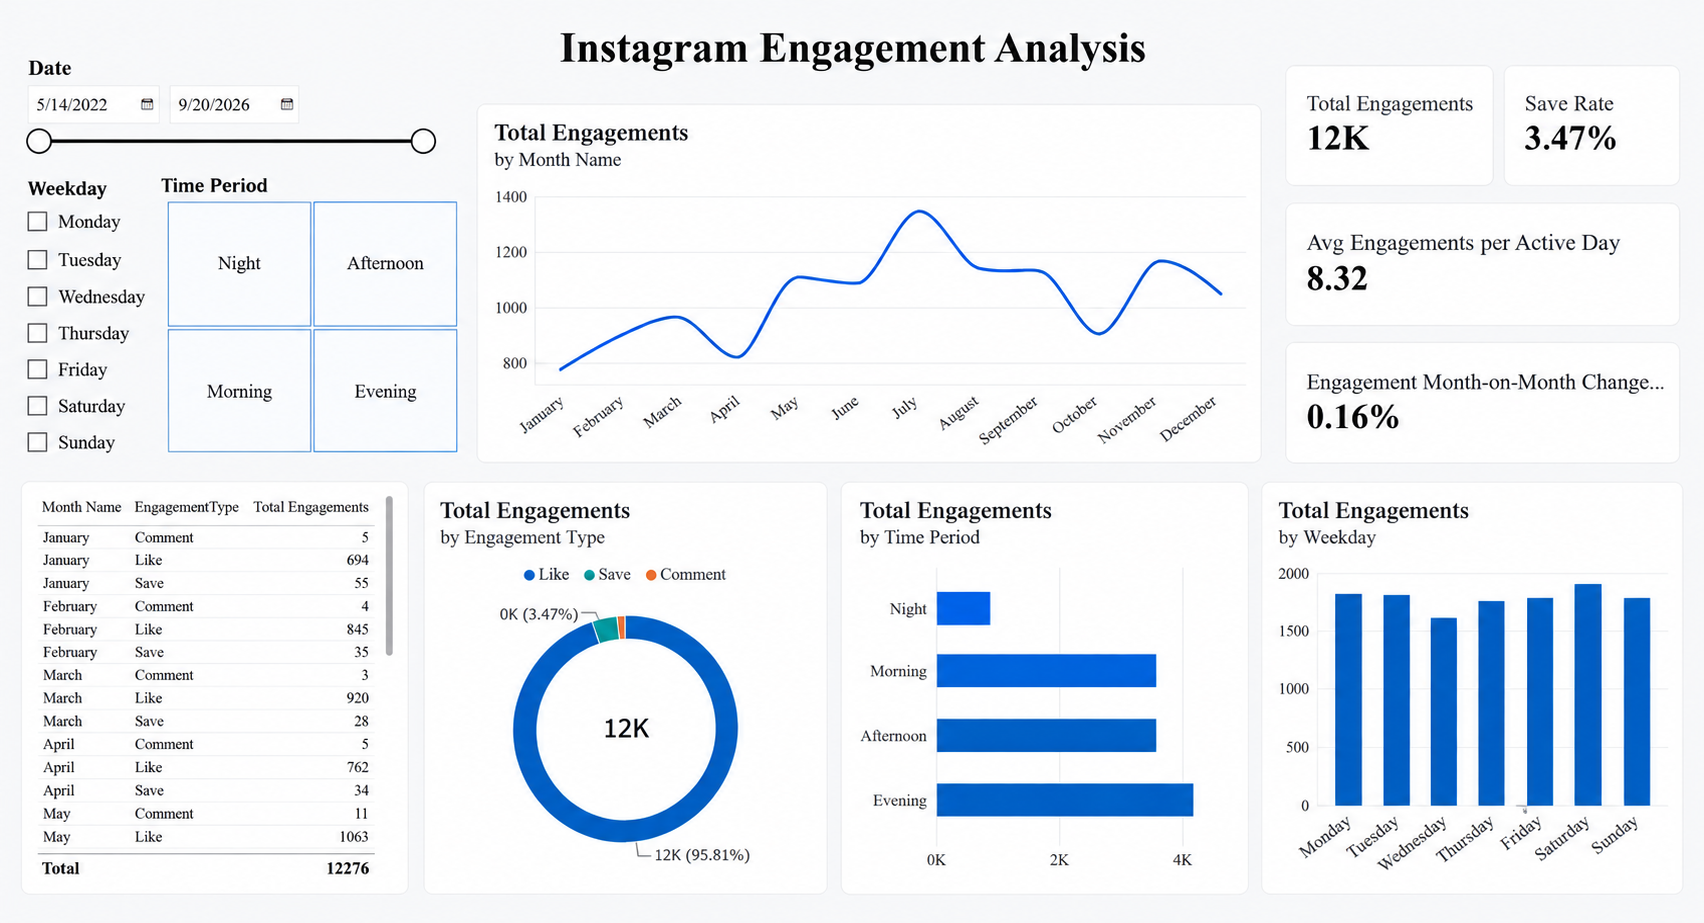

The page's visual inventory and layout, read from the dashboard file:
{"tool":"powerbi","page":{"name":"Engagement Analysis","canvas":[1920,1080],"ordinal":0},"visuals":[{"type":"textbox","box":[662.3,65.6,595.1,57.4],"z":0},{"type":"slicer","fields":{"Values":["DimDate.Date"]},"box":[16.7,77.8,466.7,164.8],"z":1000},{"type":"slicer","fields":{"Values":["DimDate.Weekday"]},"box":[16.7,203.7,213,337],"z":2000},{"type":"slicer","fields":{"Values":["DimTime.Time Period"]},"box":[161.1,200,366.7,311.1],"z":3000},{"type":"cardVisual","fields":{"Data":["FactEngagement.Total Engagements"]},"box":[1452.5,96.7,219.7,126.2],"z":4000},{"type":"cardVisual","fields":{"Data":["FactEngagement.Save Rate"]},"box":[1687,98.1,174.1,124.1],"z":5000},{"type":"cardVisual","fields":{"Data":["FactEngagement.Avg Engagements per Active Day"]},"box":[1452.5,242.6,409.8,126.2],"z":6000},{"type":"cardVisual","fields":{"Data":["FactEngagement.Engagement Month-on-Month Change %"]},"box":[1452.5,385.2,409.8,126.2],"z":7000},{"type":"lineChart","fields":{"Category":["DimDate.Month Name"],"Y":["FactEngagement.Total Engagements"]},"box":[544.4,140.7,861.1,370.4],"z":8000},{"type":"donutChart","title":"Total Engagements ","fields":{"Category":["DimEngagement.EngagementType"],"Y":["FactEngagement.Total Engagements"]},"box":[453.7,539.8,465.4,468.3],"z":9000},{"type":"clusteredColumnChart","fields":{"Category":["DimDate.Weekday"],"Y":["FactEngagement.Total Engagements"]},"box":[1425.4,539.8,465.4,468.3],"z":10000},{"type":"clusteredBarChart","fields":{"Category":["DimTime.Time Period"],"Y":["FactEngagement.Total Engagements"]},"box":[941,539.8,465.4,468.3],"z":11000},{"type":"tableEx","fields":{"Values":["DimDate.Month Name","DimEngagement.EngagementType","FactEngagement.Total Engagements"]},"box":[27.7,539.8,402.7,468.3],"z":12000}]}

Visuals, with their boxes on the page's 1920x1080 design canvas (x1, y1, x2, y2). These are canvas units, not pixel positions in the 1704x923 screenshot, which may show the page scaled, cropped or inside an application window:
textbox: crop(662, 66, 1257, 123)
slicer - DimDate.Date: crop(17, 78, 483, 243)
slicer - DimDate.Weekday: crop(17, 204, 230, 541)
slicer - DimTime.Time Period: crop(161, 200, 528, 511)
cardVisual - FactEngagement.Total Engagements: crop(1452, 97, 1672, 223)
cardVisual - FactEngagement.Save Rate: crop(1687, 98, 1861, 222)
cardVisual - FactEngagement.Avg Engagements per Active Day: crop(1452, 243, 1862, 369)
cardVisual - FactEngagement.Engagement Month-on-Month Change %: crop(1452, 385, 1862, 511)
lineChart - DimDate.Month Name x FactEngagement.Total Engagements: crop(544, 141, 1406, 511)
"Total Engagements " donutChart: crop(454, 540, 919, 1008)
clusteredColumnChart - DimDate.Weekday x FactEngagement.Total Engagements: crop(1425, 540, 1891, 1008)
clusteredBarChart - DimTime.Time Period x FactEngagement.Total Engagements: crop(941, 540, 1406, 1008)
tableEx - DimDate.Month Name x DimEngagement.EngagementType: crop(28, 540, 430, 1008)
